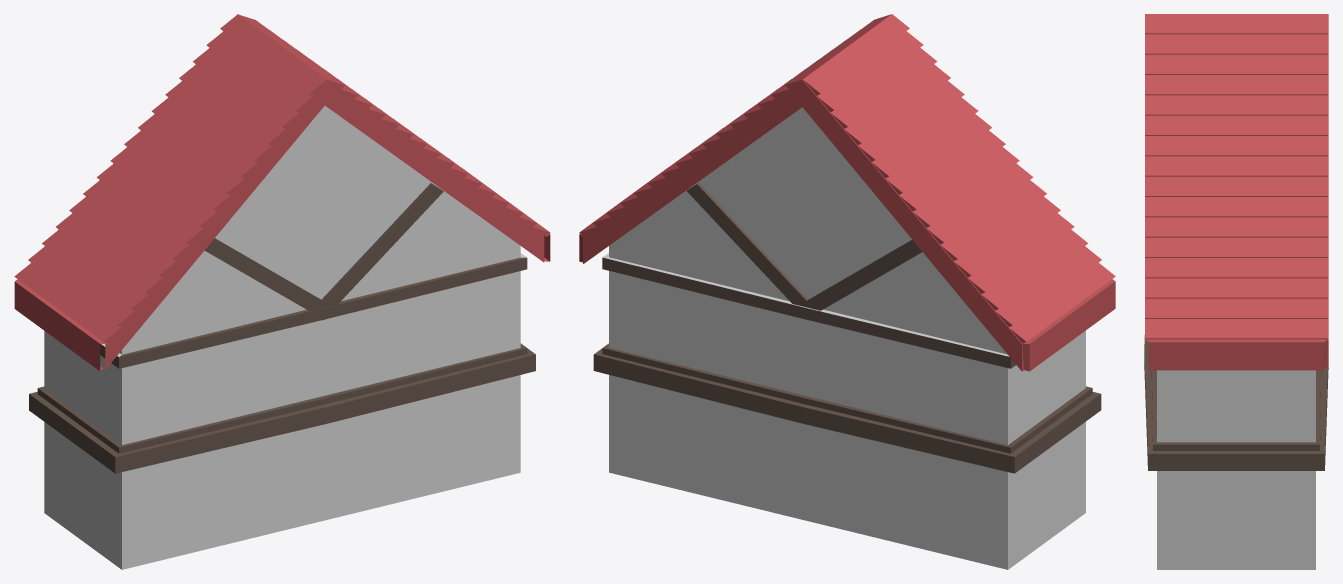
The model's file is stage1_house_xl.fbx.
3 renders of one model, left to right at view 1: azimuth 30°, elevation 25°; view 2: azimuth 150°, elevation 25°; view 3: azimuth 270°, elevation 25°, orthographic. The views are drawn at different scales.
Parts seen in each view (by area): view 1: house; view 2: house; view 3: house.
Part boxes in pixels (x1=…): house: x1=14, y1=14, x2=550, y2=569; house: x1=579, y1=14, x2=1115, y2=569; house: x1=1144, y1=14, x2=1328, y2=569.
Size of the model in its own units: 46082 by 43625 by 15969.
